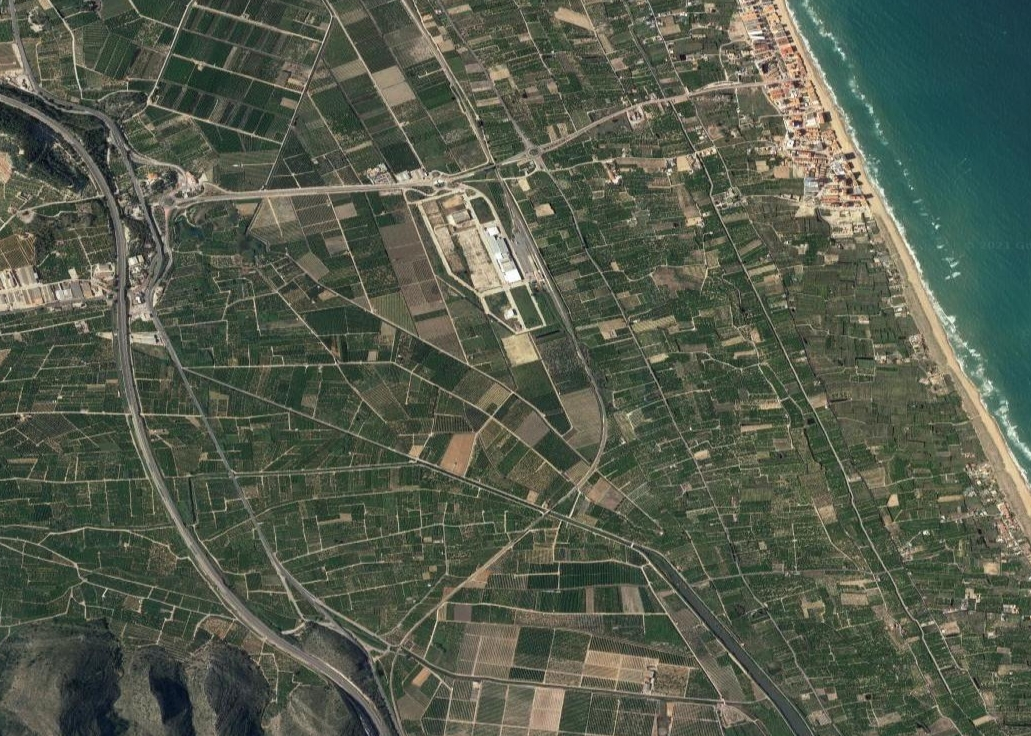industrial: (452, 203, 545, 316)
motorway: (95, 162, 173, 343), (273, 626, 397, 736), (111, 347, 186, 527), (1, 76, 127, 170), (180, 529, 270, 639), (177, 180, 404, 206)
